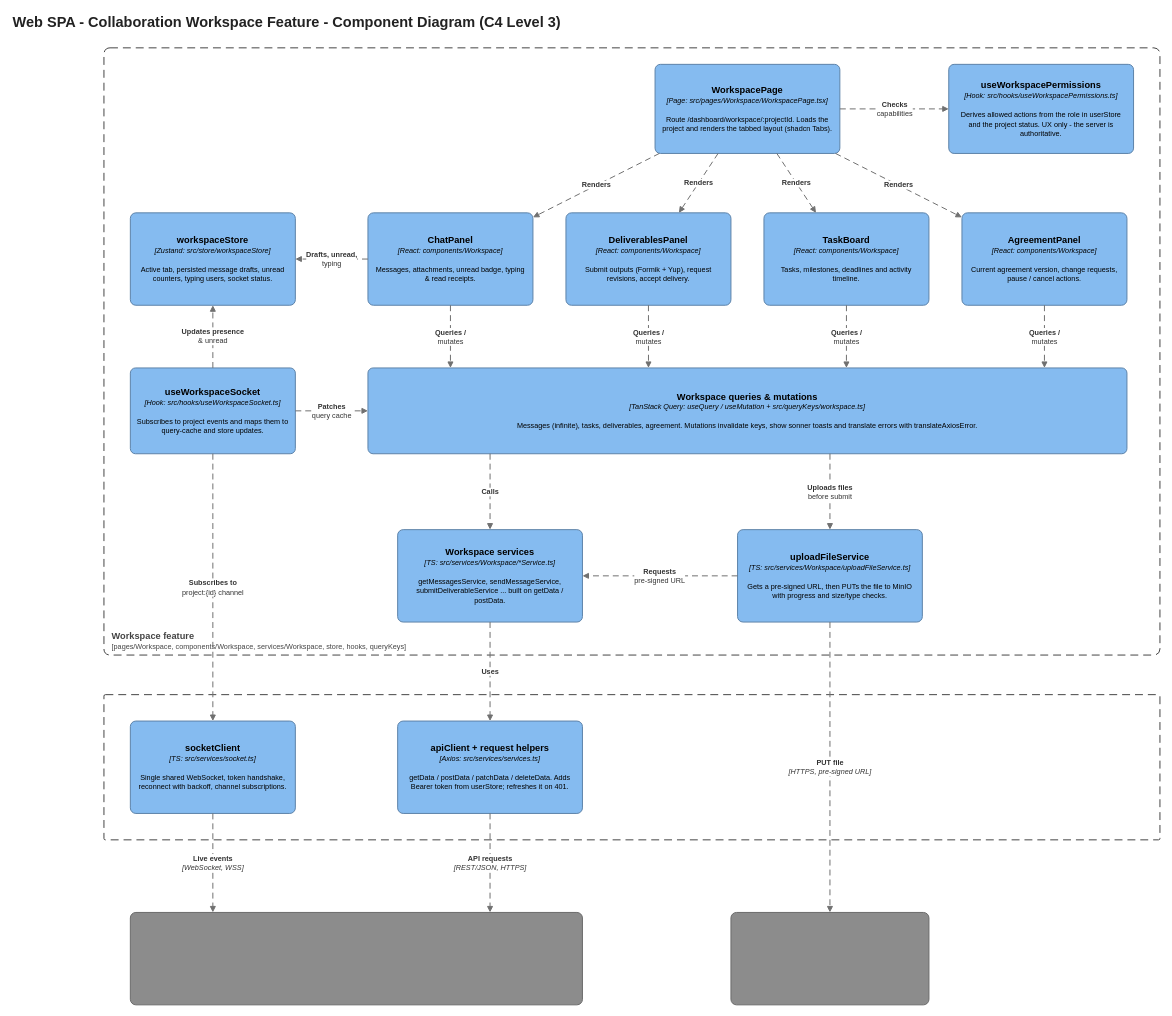
Image size: 1172x1016. Some labels were removed from this diagram. The box of each missing label's shape, as (x1, y1, x2, y2) in pixels:
Backend API [Container: Go, Gin] REST/JSON /api/v1 and WebSocket hub /ws.: (130, 912, 583, 1005)
File Storage [Container: MinIO] Stores attachments and deliverables.: (730, 912, 929, 1005)
Shared infrastructure (used by every feature) [src/services, src/store]: (103, 694, 1160, 840)
